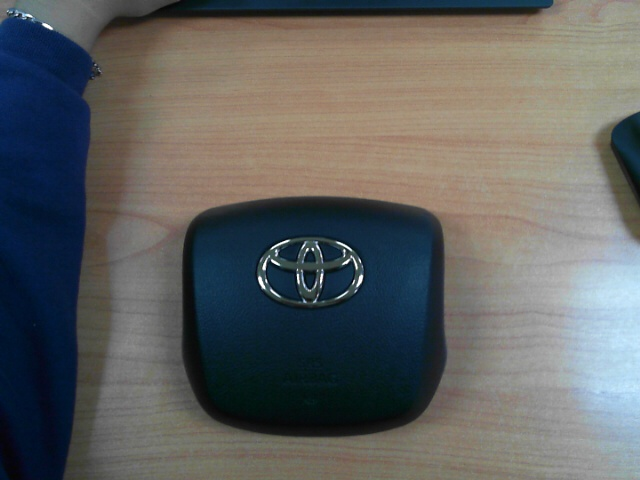Airbag: (182, 195, 446, 435)
